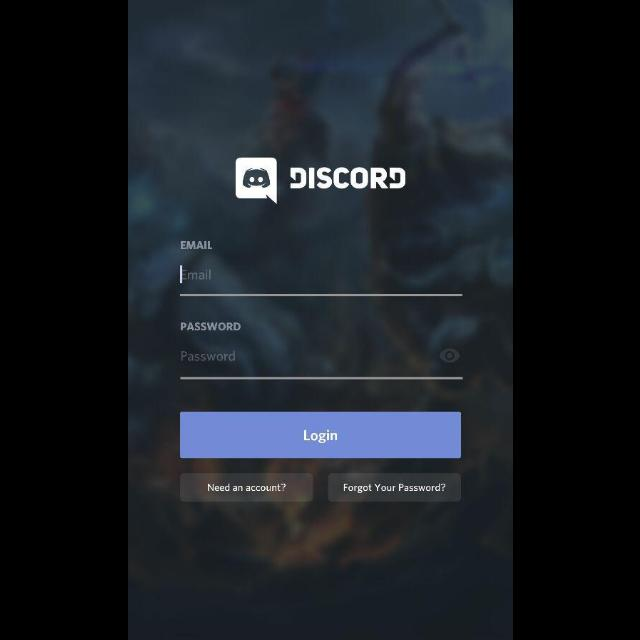backgroundimage: (128, 1, 512, 640)
icon: (438, 348, 459, 362)
image: (235, 158, 405, 206)
input: (180, 348, 462, 380), (180, 265, 460, 297)
text: (181, 350, 235, 362), (179, 322, 241, 332), (180, 240, 212, 250), (182, 270, 212, 280)
textbutton: (180, 412, 460, 458), (179, 472, 313, 502), (327, 472, 461, 502)
